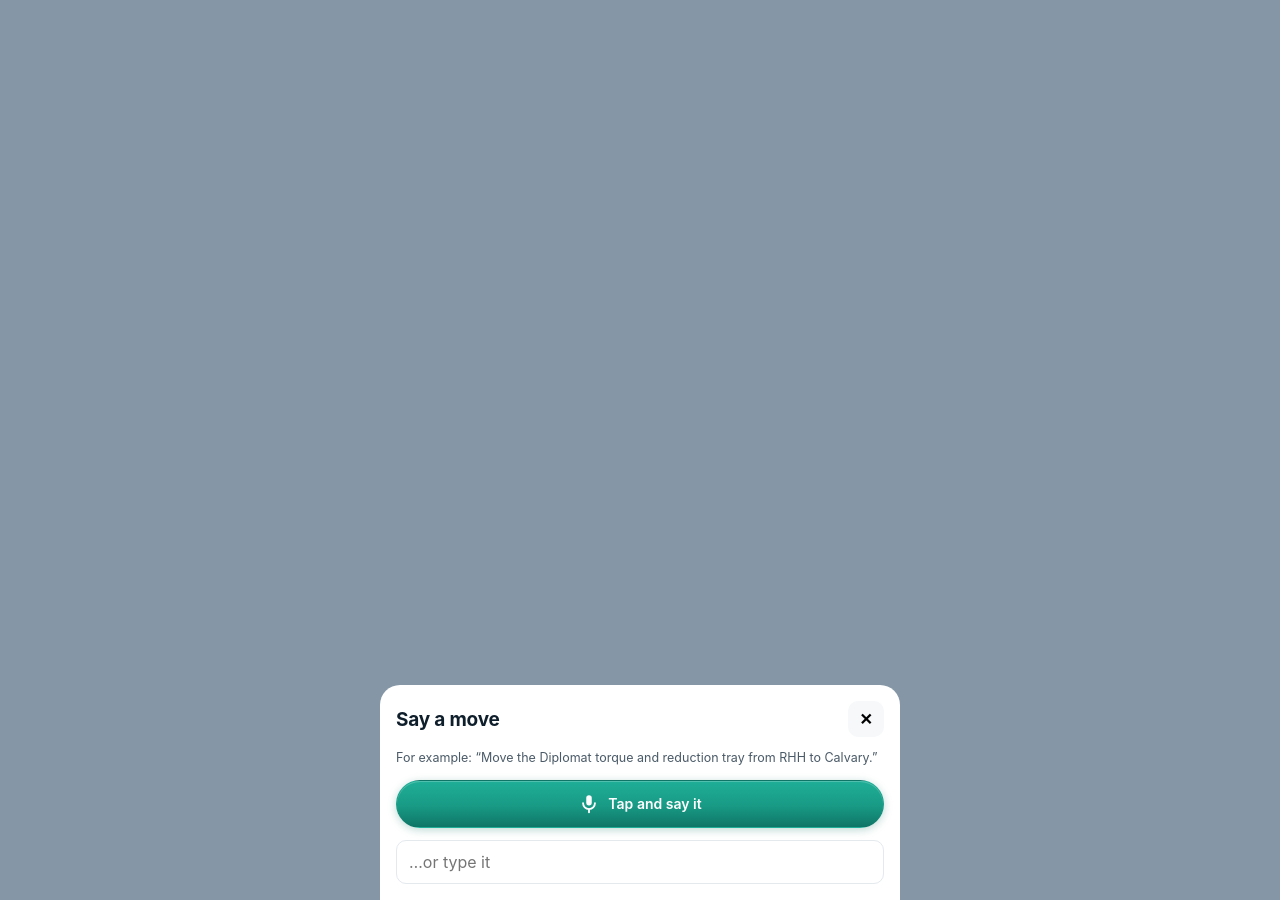
Test: Say a move › says so when nothing matches
Type "the blue thing" into the field named "The move, in words".
click(640, 862); type("the blue thing")  # box [396, 840, 884, 884]
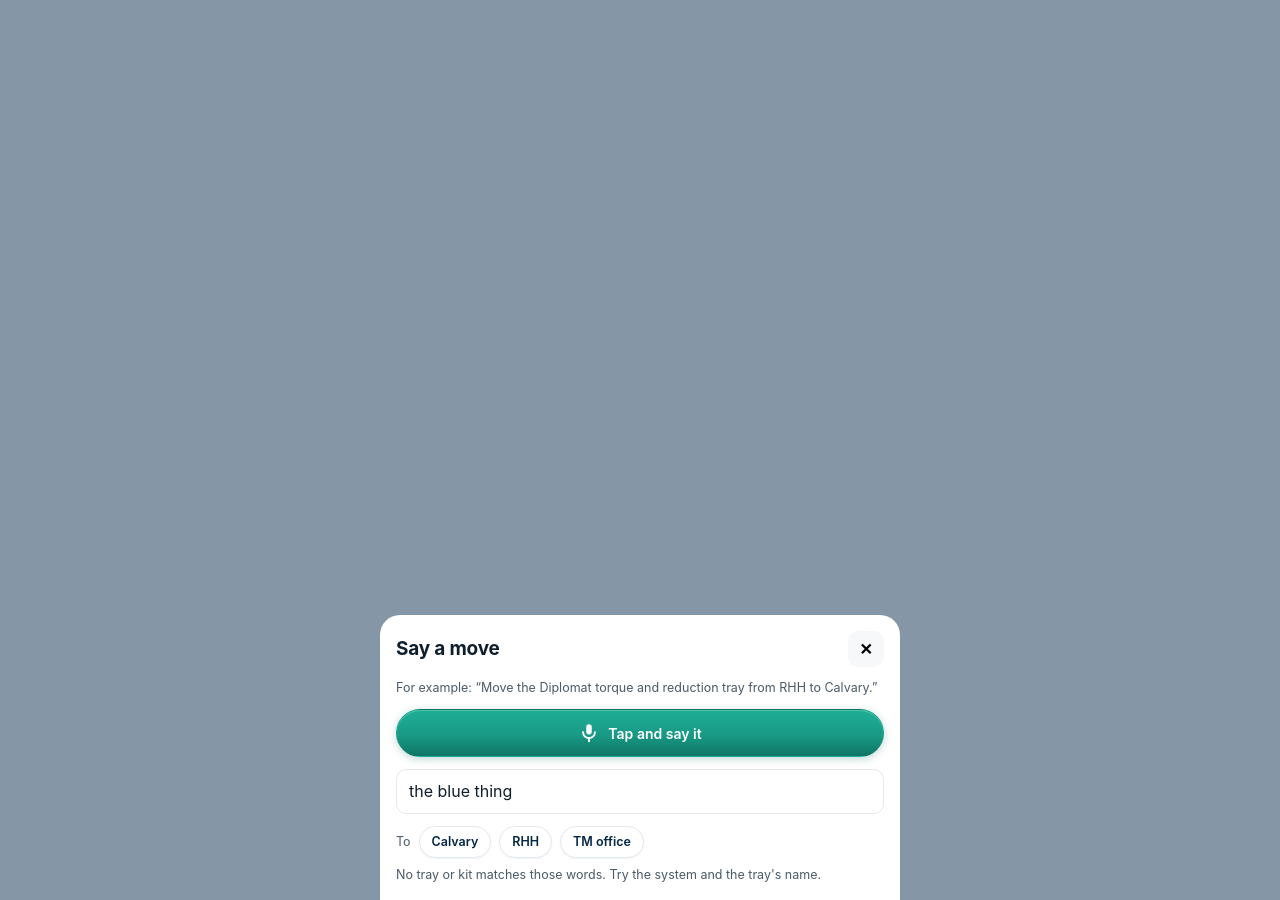
Check: the text "No tray or kit matches" is shown, box [396, 867, 821, 882]
